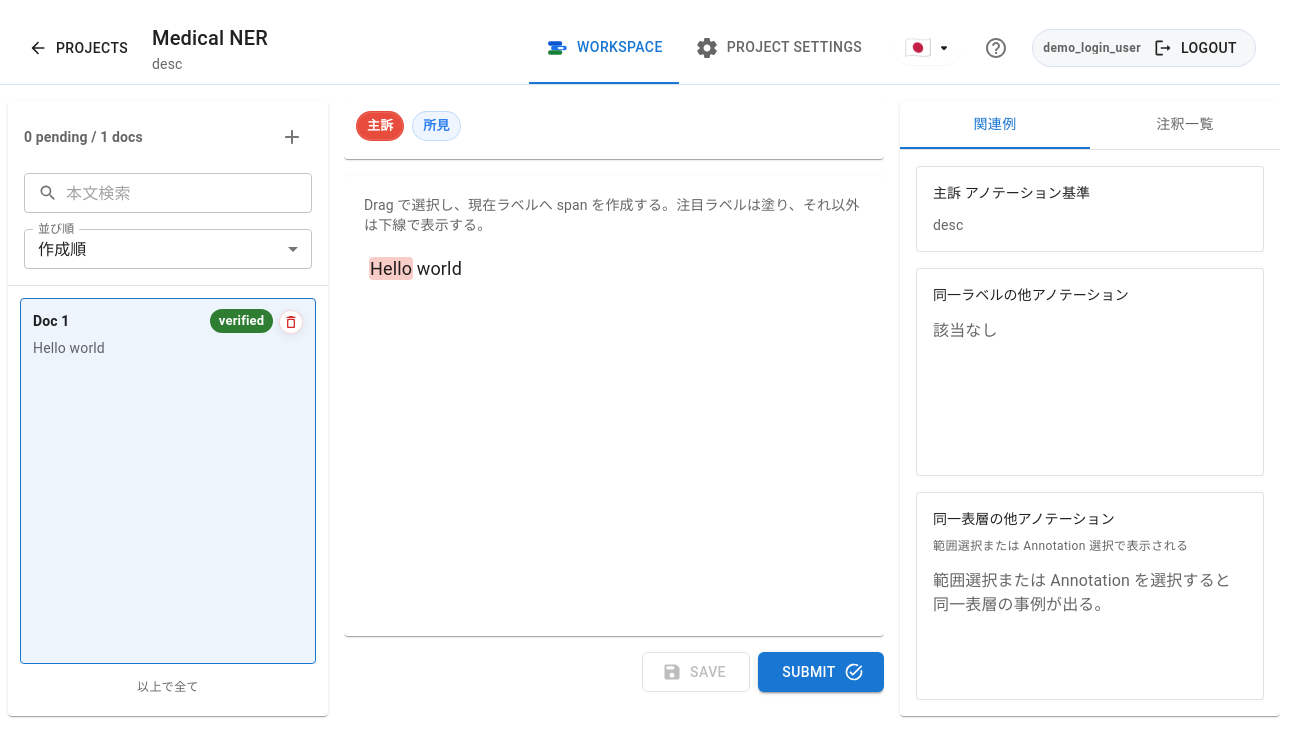
Test: ProjectShell submit behavior › shows verified doc as pending while unsaved and returns to verified after save
expect the text "0 pending / 1 docs" is shown: met, box [24,127,143,147]
expect the text "verified" is shown: met, box [219,313,264,328]
Click the tab "注釈一覧" at (1185, 125), box [1090,101,1280,149]
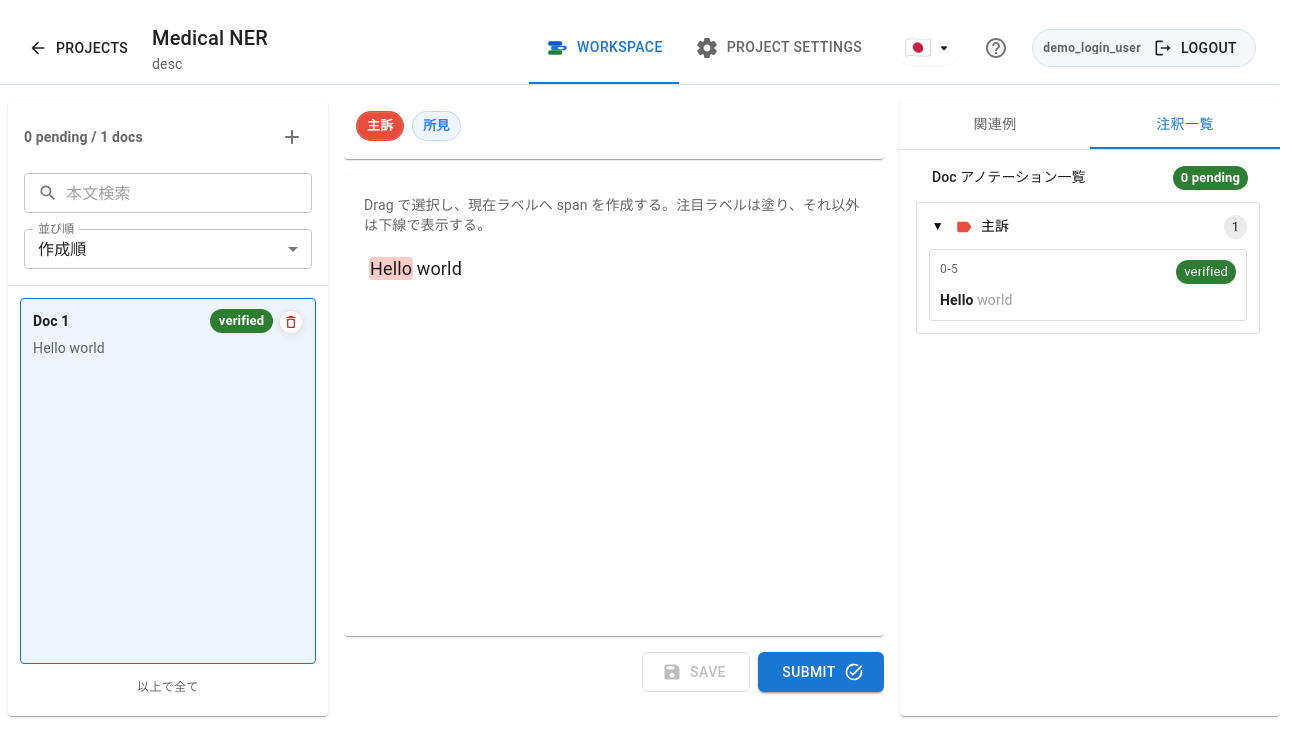
Click the text "0-5" at (949, 269), box [940,262,958,276]
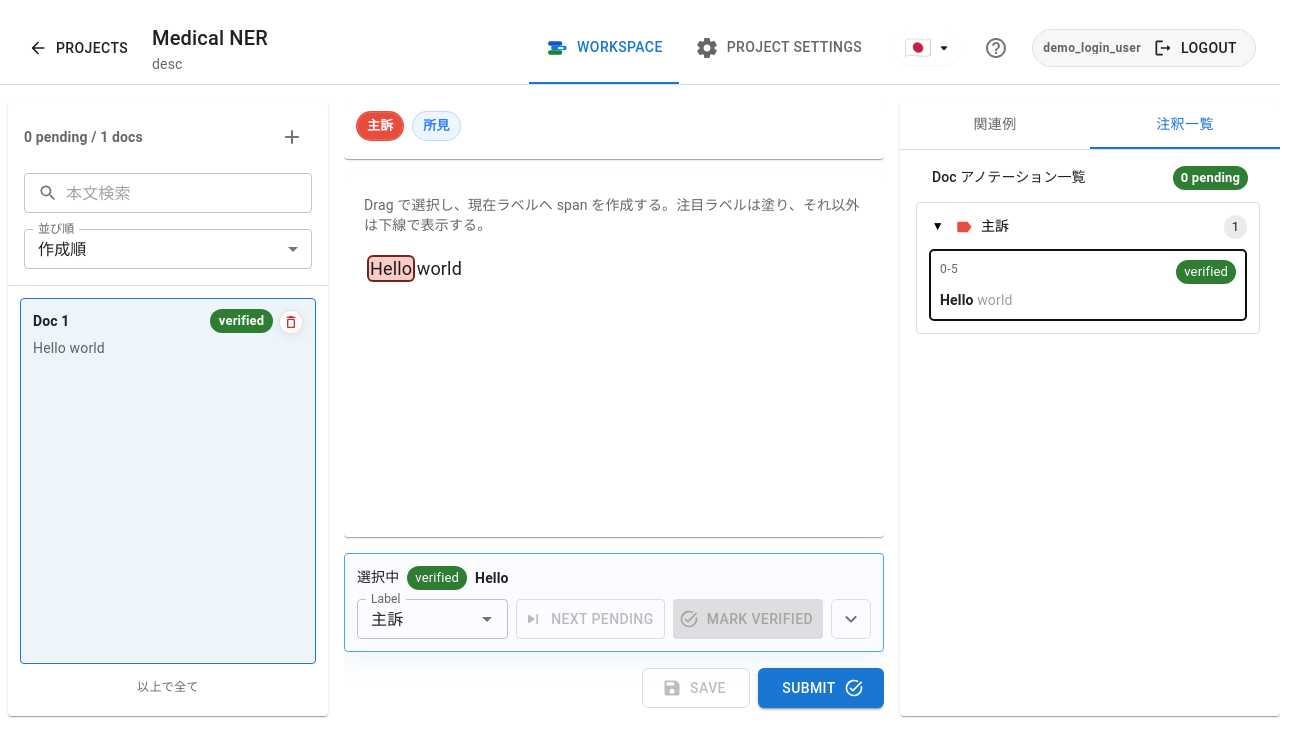
Click the button named "Annotation details" at (851, 619), box [831,599,871,639]
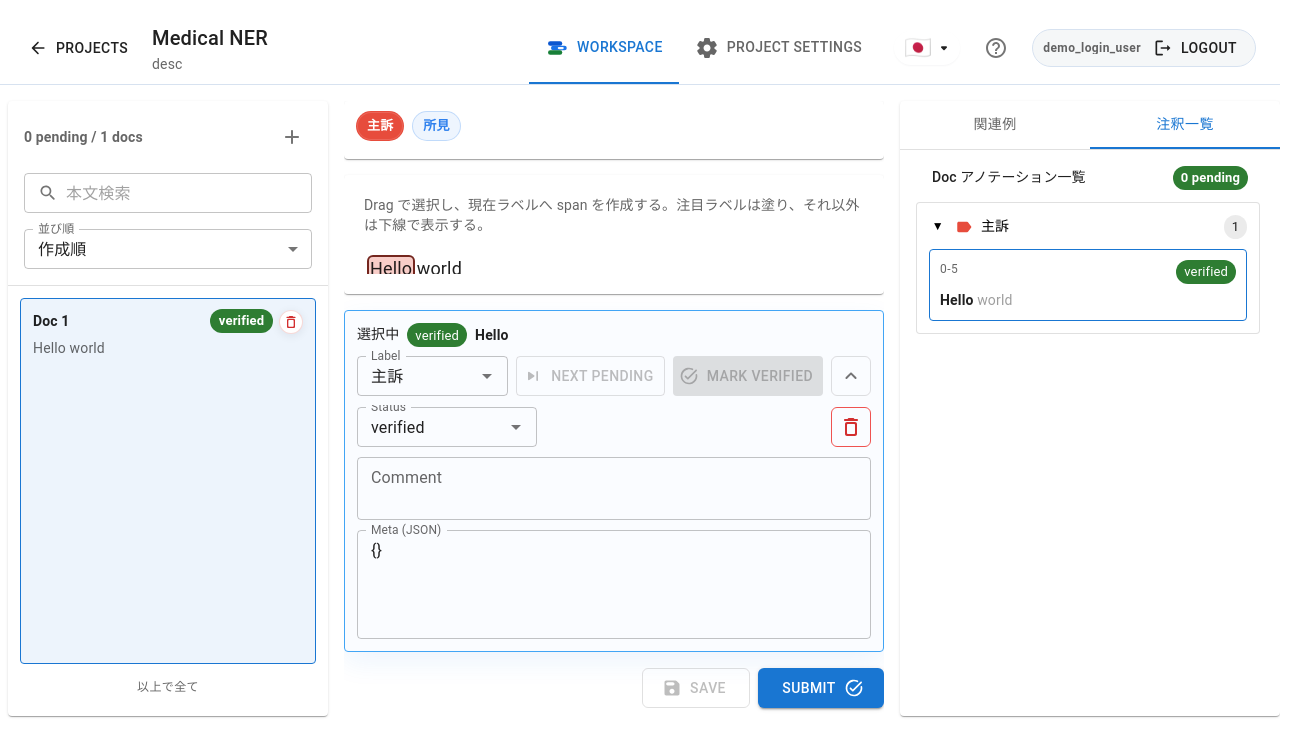
Type "updated comment" into the text box labelled "Comment" at (614, 488), box [371,466,857,512]
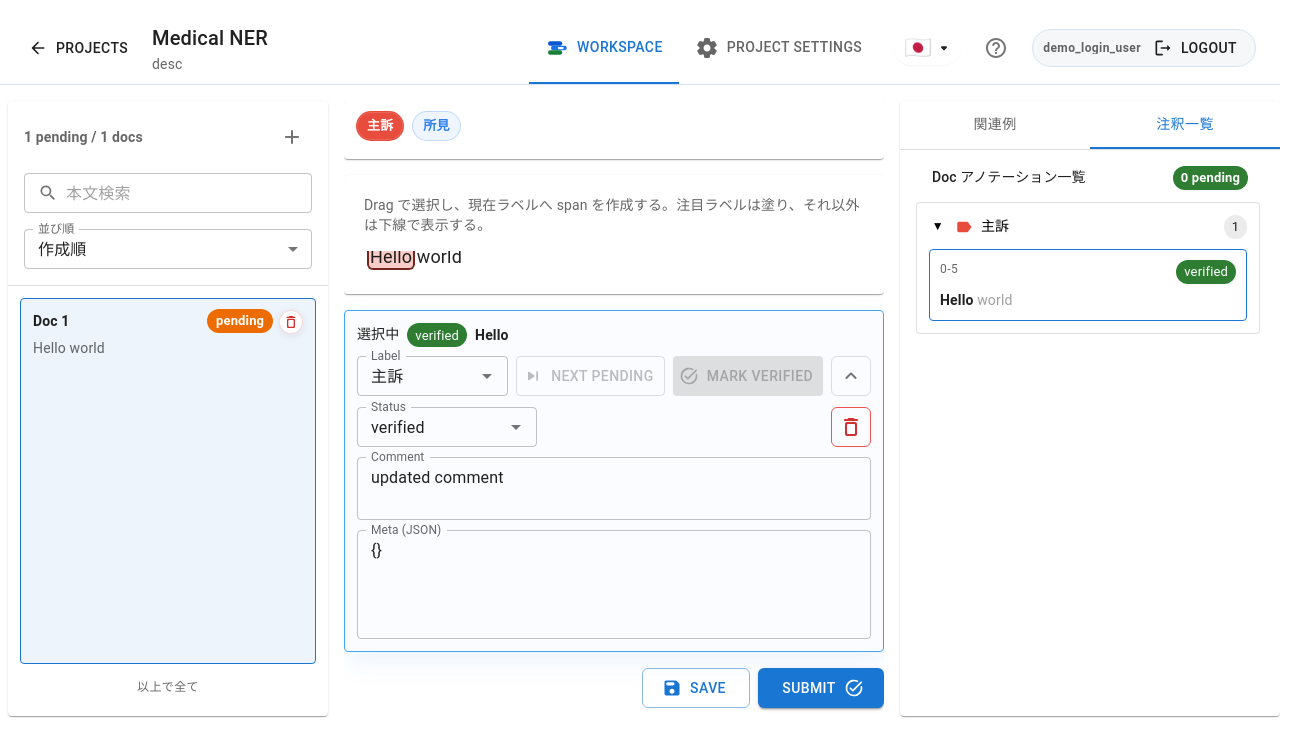
expect the text "pending" is shown: met, box [216,313,264,328]
expect the text "1 pending / 1 docs" is shown: met, box [24,127,143,147]
Click the button "Save" at (696, 688), box [642,668,750,708]
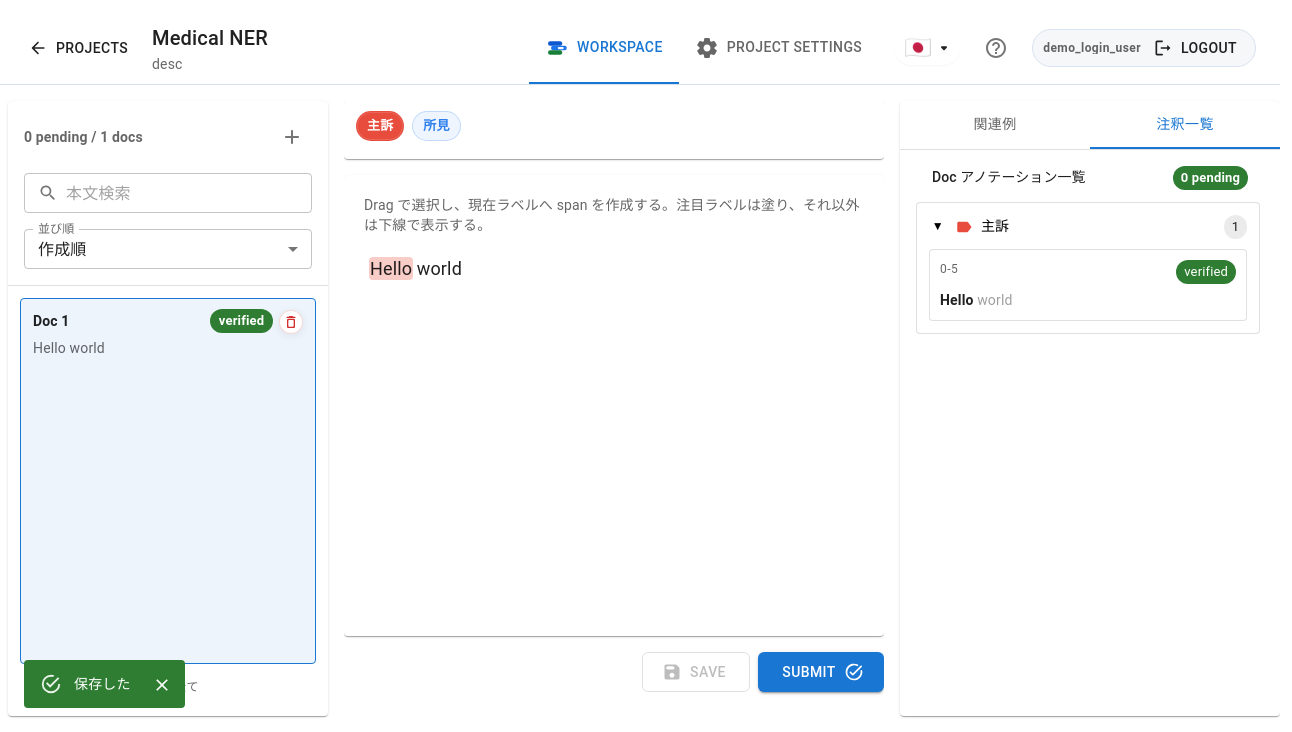
expect the text "0 pending / 1 docs" is shown: met, box [24,127,143,147]
expect the text "verified" below "作成順" is shown: met, box [219,313,264,328]
